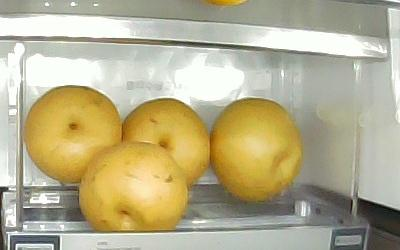pear: (79, 141, 188, 234), (22, 85, 122, 184), (210, 96, 302, 202), (123, 98, 210, 185)
